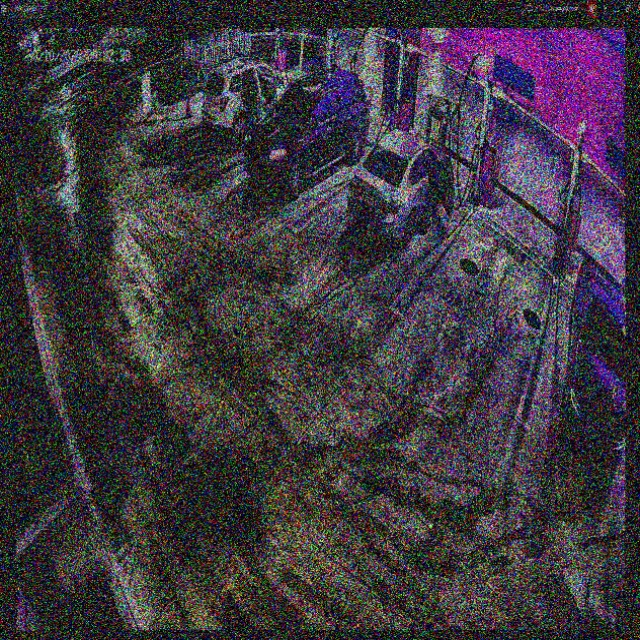Car: (245, 64, 367, 196), (347, 129, 453, 241)
